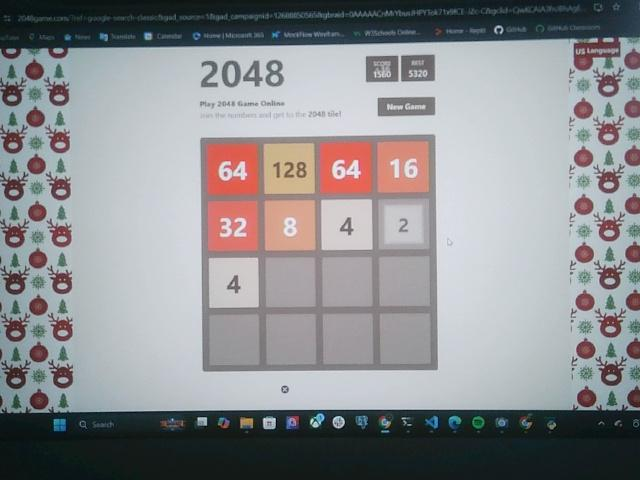board: (202, 137, 437, 371)
tile: (321, 143, 373, 194), (378, 141, 429, 193), (207, 201, 259, 252), (321, 200, 373, 251), (208, 257, 259, 308), (206, 144, 258, 194), (265, 143, 316, 193), (265, 202, 316, 251)
